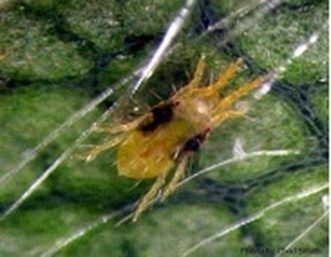Mites: (110, 46, 255, 208)
